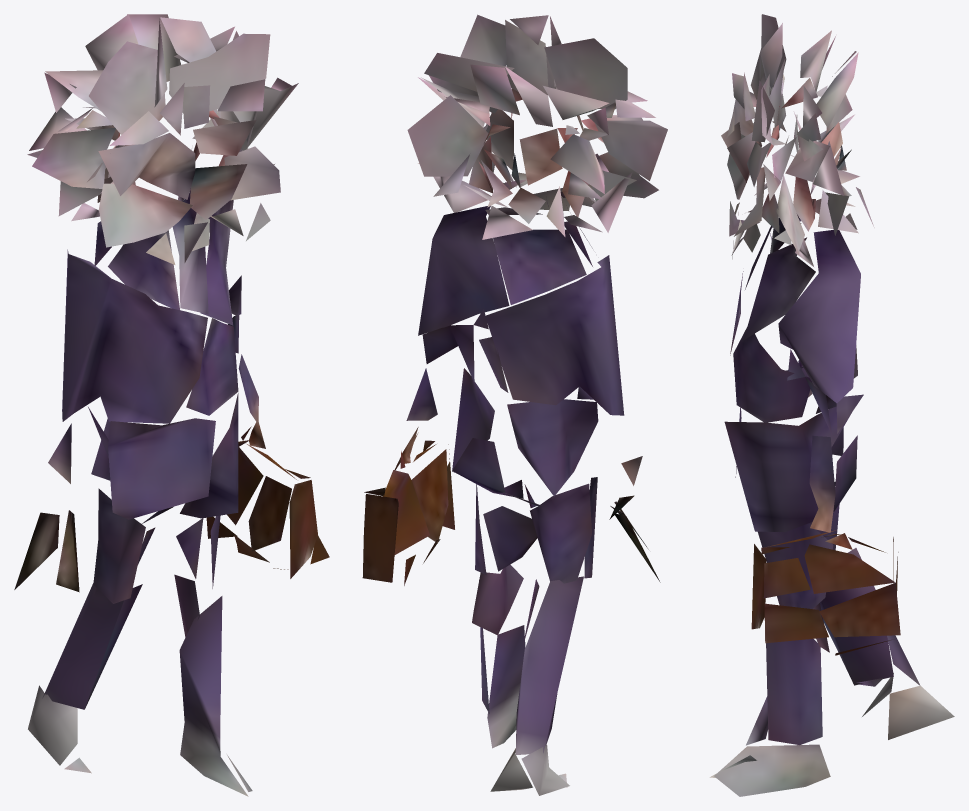
The model's file is cast_workgirl_far.glb.
The picture shows the model from 3 angles, left to right: view 1: azimuth 30°, elevation 25°; view 2: azimuth 150°, elevation 25°; view 3: azimuth 270°, elevation 25°; orthographic projection. The views are drawn at different scales.
Visible parts, largest first — view 1: tripo_node_4dcd1692-ba07-4971-a005-472ad7834de4; view 2: tripo_node_4dcd1692-ba07-4971-a005-472ad7834de4; view 3: tripo_node_4dcd1692-ba07-4971-a005-472ad7834de4.
Boxes of the visible parts, x1,y1,x2,y2 form: tripo_node_4dcd1692-ba07-4971-a005-472ad7834de4: (14, 14, 329, 796); tripo_node_4dcd1692-ba07-4971-a005-472ad7834de4: (362, 14, 667, 795); tripo_node_4dcd1692-ba07-4971-a005-472ad7834de4: (709, 14, 954, 796).
Size of the model in its own units: 0.386 by 0.9874 by 0.296.
Materials: 1 (1 with a texture image).
